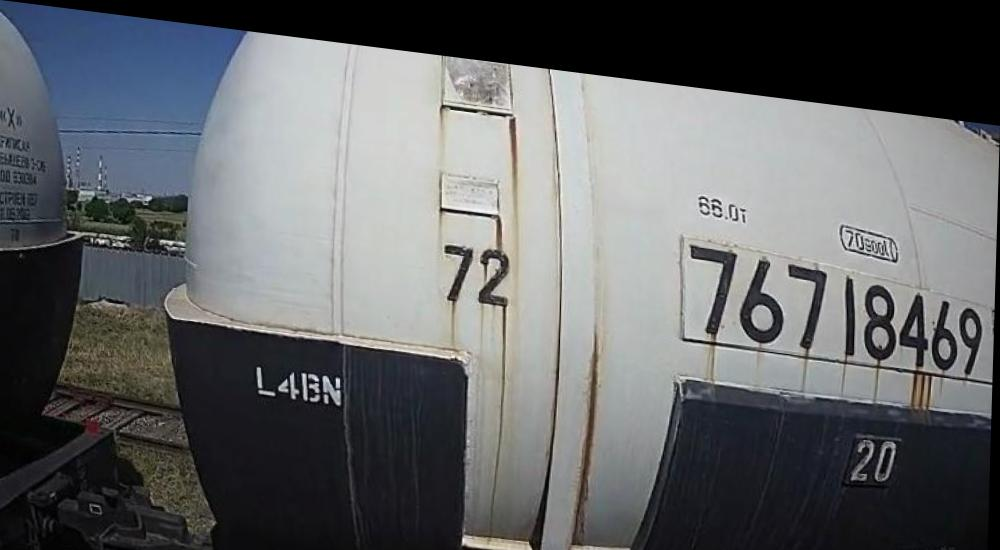Wagon-number: (682, 222, 988, 352)
